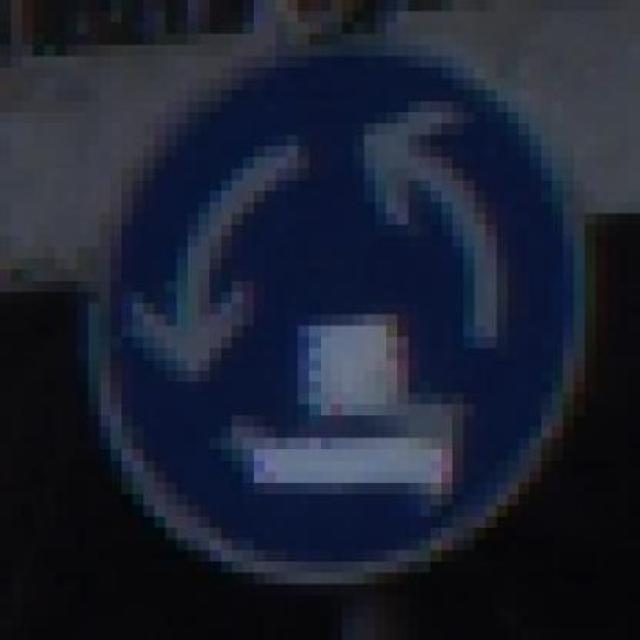Round-About: (56, 33, 618, 618)
